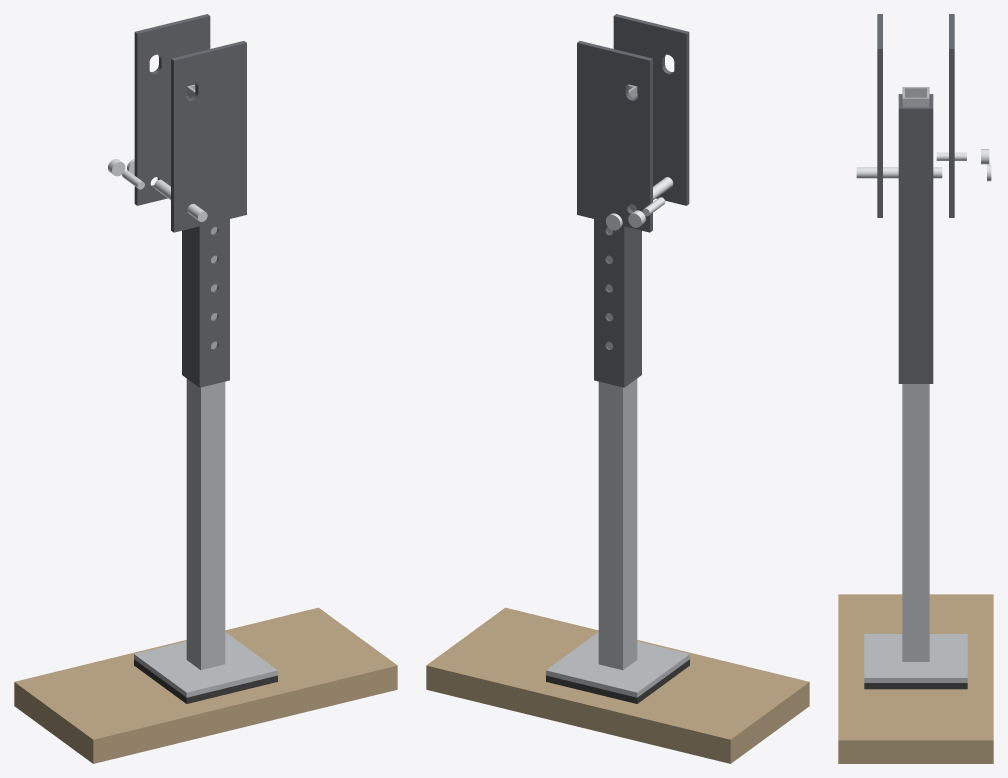
The model's file is leg_B1.glb.
3 renders of one model, left to right at view 1: azimuth 30°, elevation 25°; view 2: azimuth 150°, elevation 25°; view 3: azimuth 270°, elevation 25°, orthographic.
Parts seen in each view (by area): view 1: =>[0:1:1:17], =>[0:1:1:13], =>[0:1:1:10], =>[0:1:1:11], =>[0:1:1:12], =>[0:1:1:15]; view 2: =>[0:1:1:17], =>[0:1:1:13], =>[0:1:1:11], =>[0:1:1:10], =>[0:1:1:12], =>[0:1:1:15]; view 3: =>[0:1:1:17], =>[0:1:1:13], =>[0:1:1:12], =>[0:1:1:10], =>[0:1:1:11], =>[0:1:1:15], =>[0:1:1:4].
Boxes of the visible parts, x1,y1,x2,y2 form: =>[0:1:1:17]: [14, 607, 397, 763]; =>[0:1:1:13]: [134, 84, 277, 697]; =>[0:1:1:10]: [171, 41, 246, 232]; =>[0:1:1:11]: [134, 14, 210, 205]; =>[0:1:1:12]: [182, 93, 229, 387]; =>[0:1:1:15]: [134, 659, 277, 703]; =>[0:1:1:17]: [426, 607, 809, 763]; =>[0:1:1:13]: [546, 84, 689, 697]; =>[0:1:1:11]: [577, 41, 652, 232]; =>[0:1:1:10]: [613, 14, 689, 205]; =>[0:1:1:12]: [594, 93, 641, 387]; =>[0:1:1:15]: [546, 659, 689, 703]; =>[0:1:1:17]: [838, 594, 993, 763]; =>[0:1:1:13]: [864, 87, 967, 682]; =>[0:1:1:12]: [898, 94, 933, 383]; =>[0:1:1:10]: [877, 14, 882, 217]; =>[0:1:1:11]: [949, 14, 954, 217]; =>[0:1:1:15]: [864, 683, 967, 689]; =>[0:1:1:4]: [856, 167, 942, 178].
Bounding box in the file's own units: 0.5 × 1.04 × 0.225.
